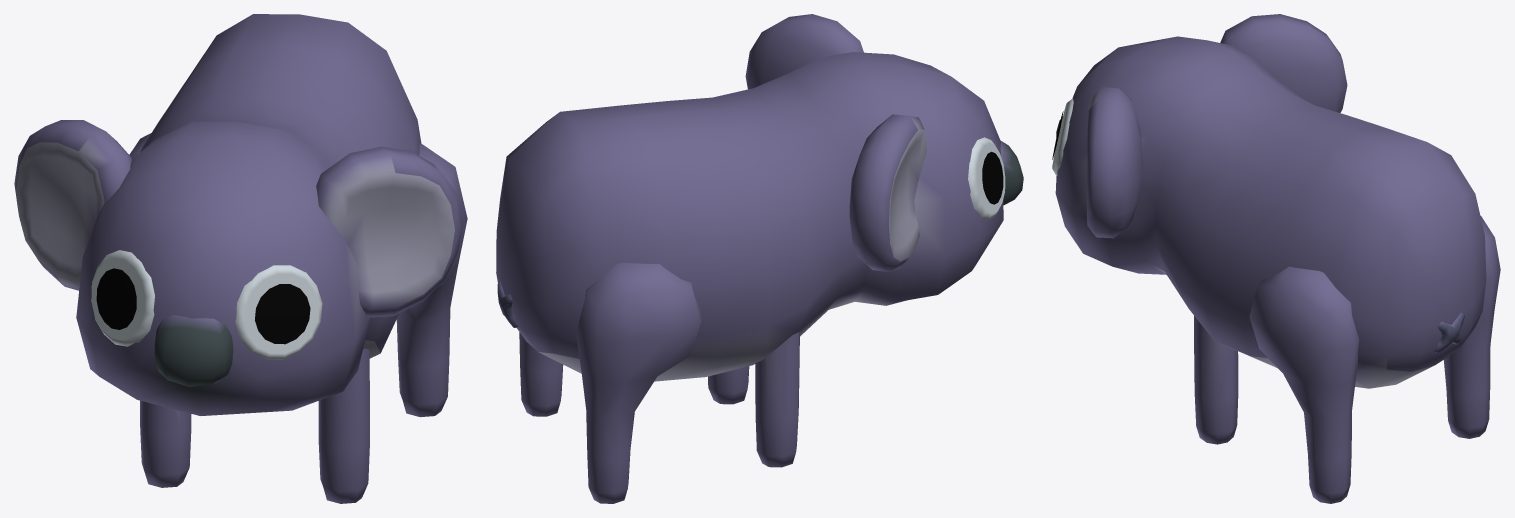
Rendered from Koala.glb.
3 views of the same model, side by side, from view 1: azimuth 30°, elevation 25°; view 2: azimuth 150°, elevation 25°; view 3: azimuth 270°, elevation 25° (orthographic). The views are drawn at different scales.
Parts seen in each view (by area): view 1: 86; view 2: 86; view 3: 86.
Part boxes in pixels (x1=…): 86: x1=14, y1=14, x2=467, y2=503; 86: x1=496, y1=14, x2=1023, y2=503; 86: x1=1052, y1=14, x2=1500, y2=503.
Bounding box in the file's own units: 0.4992 × 0.4268 × 0.5159.
